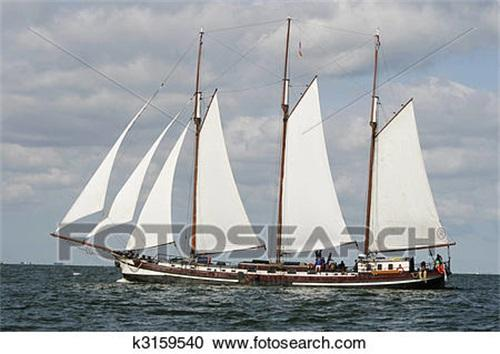Ship: (52, 19, 455, 290)
